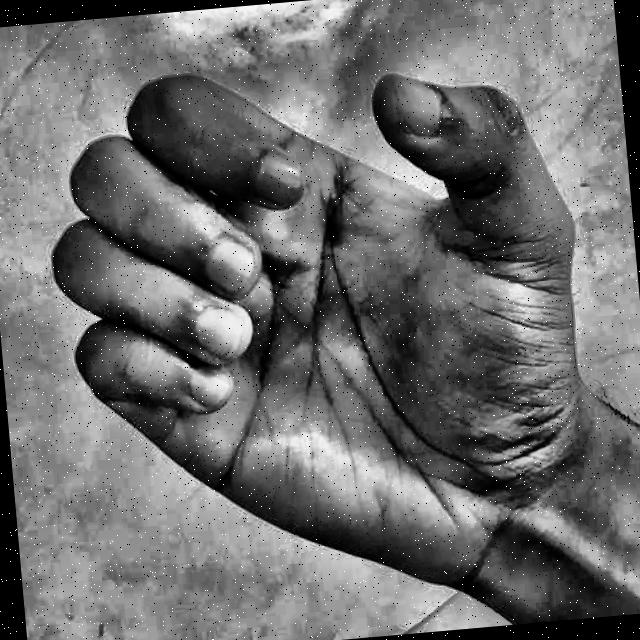Dho: (16, 12, 622, 638)
